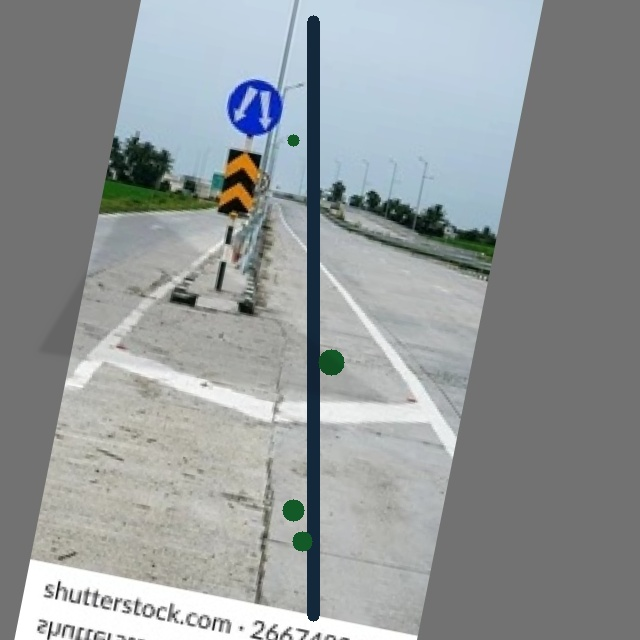Pass_Either_Side: (215, 68, 293, 148)
